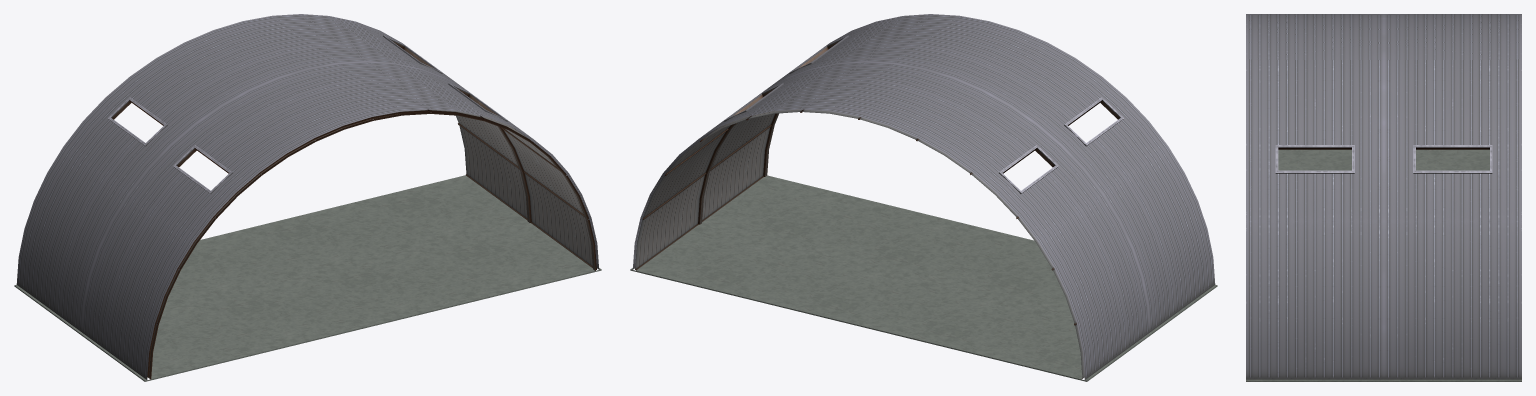
The model's file is Warehouse02_4.FBX.
The picture shows the model from 3 angles, left to right: view 1: azimuth 30°, elevation 25°; view 2: azimuth 150°, elevation 25°; view 3: azimuth 270°, elevation 25°; orthographic projection. The views are drawn at different scales.
Visible parts, largest first — view 1: Warehouse02_4; view 2: Warehouse02_4; view 3: Warehouse02_4.
Boxes of the visible parts, left/top/right/bottom form: Warehouse02_4: left=14, top=14, right=601, bottom=381; Warehouse02_4: left=630, top=14, right=1217, bottom=381; Warehouse02_4: left=1246, top=14, right=1521, bottom=381.
Size of what is drawn, in the model's own units: 20.2 by 8.86 by 10.
